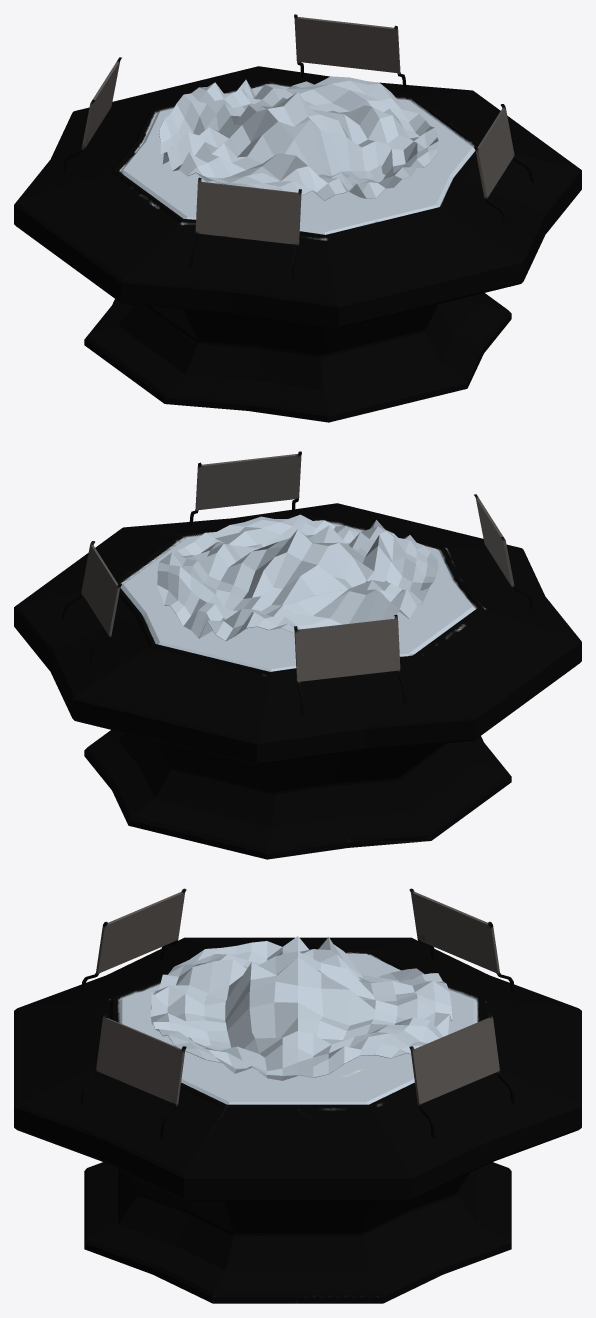
File: Table.fbx
3 renders of one model, top to bottom at view 1: azimuth 30°, elevation 25°; view 2: azimuth 150°, elevation 25°; view 3: azimuth 270°, elevation 25°, orthographic. The views are drawn at different scales.
Visible parts, largest first — view 1: node_id4; view 2: node_id4; view 3: node_id4.
Part boxes in pixels (x1,y1,x2,y2): node_id4: [14, 14, 581, 422]; node_id4: [14, 451, 581, 859]; node_id4: [14, 888, 581, 1303].
Bounding box in the file's own units: 0.512 × 0.255 × 0.512.
Materials: 1 (1 with a texture image).
